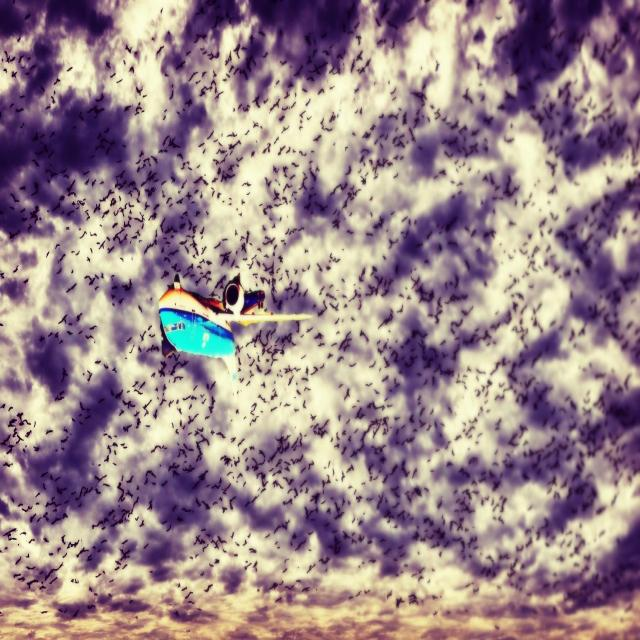airplane: (158, 271, 312, 380)
